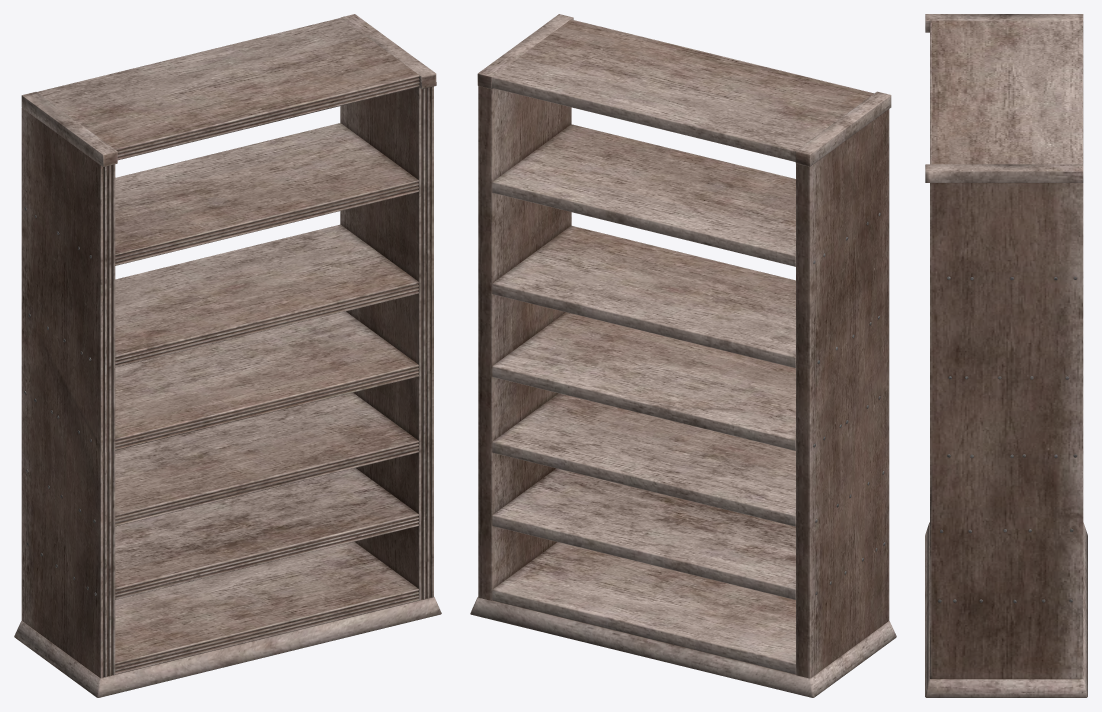
File: wooden_bookshelf_worn.glb
3 renders of one model, left to right at view 1: azimuth 30°, elevation 25°; view 2: azimuth 150°, elevation 25°; view 3: azimuth 270°, elevation 25°, orthographic. The views are drawn at different scales.
Visible parts, largest first — view 1: wooden_bookshelf_worn; view 2: wooden_bookshelf_worn; view 3: wooden_bookshelf_worn.
Part boxes in pixels (x1,y1,x2,y2): wooden_bookshelf_worn: (14,14,441,697); wooden_bookshelf_worn: (470,14,896,697); wooden_bookshelf_worn: (925,14,1087,697).
Bounding box in the file's own units: 1.37 × 2.06 × 0.5814.
1 material, 1 textured.
